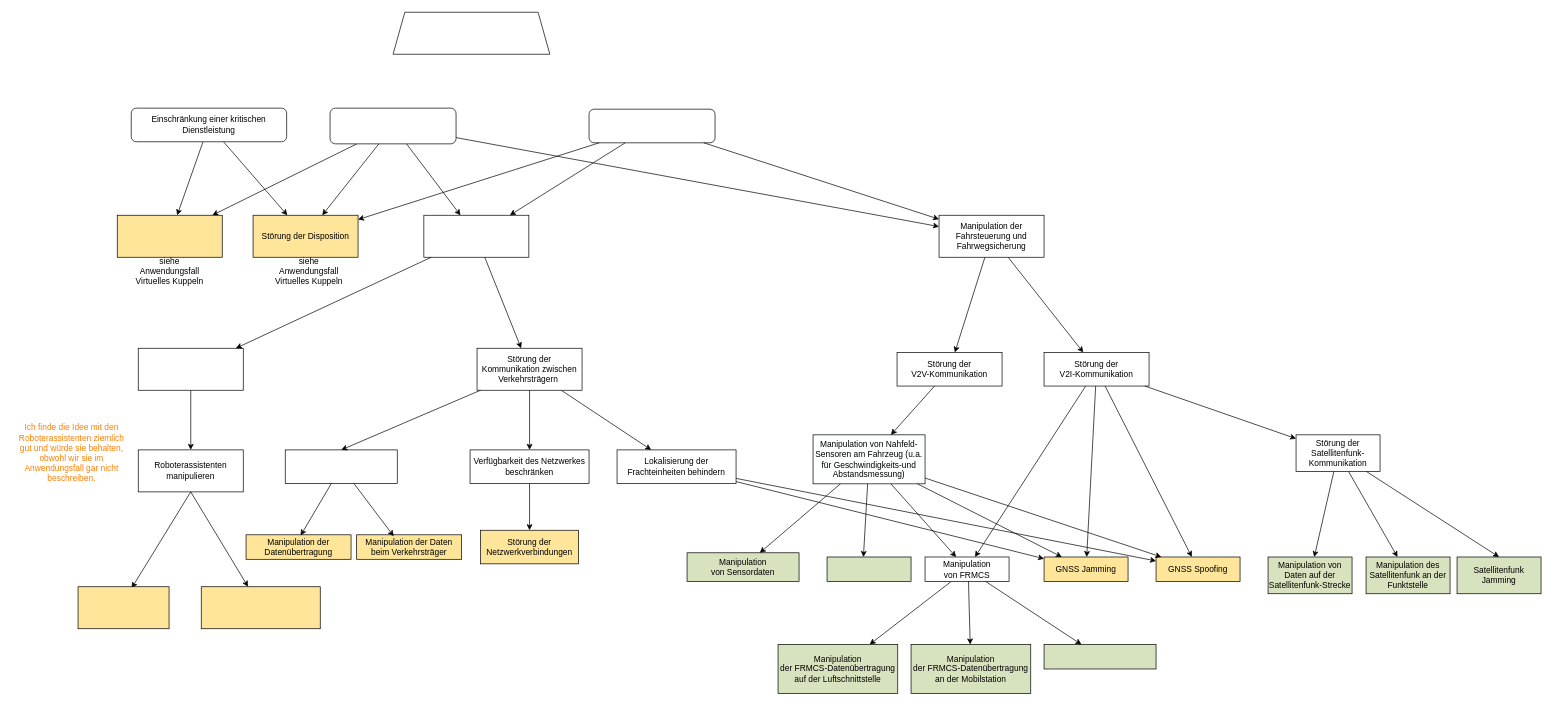
The diagram is 1553 pixels wide and 706 high, and some of its shapes have lost their labels. The shapes that lost their labels are listed below. From the top down, each one's box as (x1, y1, x2, y2) in pixels, then its label:
(392, 12, 550, 54): Angriffsziel Intermodale Güterabfertigung
(329, 107, 456, 144): Reputationsschaden Betreiber
(588, 108, 715, 143): Finanzieller Schaden Spediteur
(117, 215, 222, 257): Manipulation von Kupplungs- und Platooningvorgängen
(423, 215, 529, 257): Störung der Übergänge zwischen Verkehrsträgern
(138, 348, 243, 390): Störung der Frachtübergabe zwischen Verkehrsträgern
(285, 449, 397, 483): Logistikdaten manipulieren
(826, 556, 911, 581): Blockade der Sensoren
(77, 586, 169, 629): Steuerungsdaten am Roboterassistenten manipulieren
(201, 586, 320, 629): Roboterassisten physisch sabotieren / zerstören
(1043, 644, 1156, 669): FRMCS Jamming
